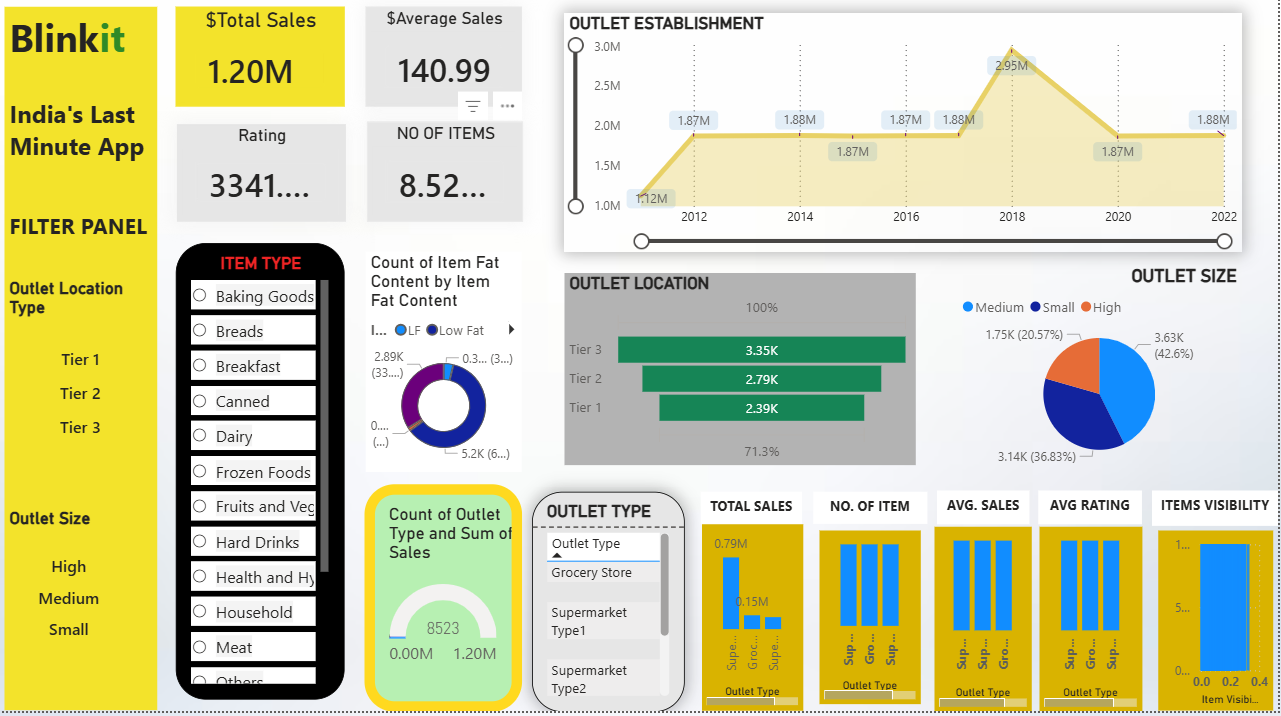

Layout of this report page (visuals, bound fields, positions):
{"tool":"powerbi","page":{"name":"Page 1","canvas":[1280,720],"ordinal":0},"visuals":[{"type":"textbox","box":[12.4,18.7,151.8,700.3],"z":0},{"type":"cardVisual","title":"$Total Sales","fields":{"Data":["Sum(BlinkIT Grocery Data.Sales)"]},"box":[182.9,18.7,167.9,99.5],"z":1000},{"type":"cardVisual","title":"$Average Sales","fields":{"Data":["BlinkIT Grocery Data.Avg_salary"]},"box":[371.9,18.7,155.5,99.5],"z":2000},{"type":"cardVisual","title":"NO OF ITEMS","fields":{"Data":["BlinkIT Grocery Data.no of item","BlinkIT Grocery Data.no of item","BlinkIT Grocery Data.no of item"]},"box":[373.2,133.1,155.5,99.5],"z":3000},{"type":"cardVisual","title":"Rating","fields":{"Data":["Sum(BlinkIT Grocery Data.Rating)"]},"box":[184.1,135.6,167.9,97],"z":4000},{"type":"listSlicer","title":"ITEM TYPE","fields":{"Values":["BlinkIT Grocery Data.Item Type"]},"box":[182.9,253.8,167.9,454],"z":5000},{"type":"donutChart","fields":{"Series":["BlinkIT Grocery Data.Item Fat Content"],"Y":["CountNonNull(BlinkIT Grocery Data.Item Fat Content)"]},"box":[371.9,262.5,155.5,218.9],"z":6000},{"type":"lineChart","title":"OUTLET ESTABLISHMENT","fields":{"Y":["Sum(BlinkIT Grocery Data.Outlet Establishment Year)"],"Category":["BlinkIT Grocery Data.Outlet Establishment Year"]},"box":[569.7,24.9,674.2,237.6],"z":7000},{"type":"pieChart","title":"OUTLET SIZE","fields":{"Category":["BlinkIT Grocery Data.Outlet Size"],"Y":["CountNonNull(BlinkIT Grocery Data.Outlet Size)"]},"box":[960.3,276.2,283.6,205.3],"z":8000},{"type":"funnel","title":"OUTLET LOCATION","fields":{"Category":["BlinkIT Grocery Data.Outlet Location Type"],"Y":["CountNonNull(BlinkIT Grocery Data.Outlet Location Type)"]},"box":[569.7,283.6,349.6,191.6],"z":9000},{"type":"pivotTable","title":"OUTLET TYPE","fields":{"Rows":["BlinkIT Grocery Data.Outlet Type"]},"box":[537.4,501.3,151.8,218.9],"z":10000},{"type":"textbox","box":[705.3,501.3,100.8,32.3],"z":11000},{"type":"textbox","box":[817.3,501.3,113.2,32.3],"z":12000},{"type":"textbox","box":[940.4,500.1,92.1,33.6],"z":13000},{"type":"textbox","box":[1041.2,500.1,103.2,33.6],"z":14000},{"type":"textbox","box":[1154.4,500.1,125.6,34.8],"z":15000},{"type":"columnChart","fields":{"Y":["Sum(BlinkIT Grocery Data.Sales)"],"Category":["BlinkIT Grocery Data.Outlet Type"]},"box":[706.6,533.7,100.8,185.3],"z":16000},{"type":"hundredPercentStackedColumnChart","fields":{"Y":["BlinkIT Grocery Data.no of item"],"Category":["BlinkIT Grocery Data.Outlet Type"]},"box":[823.5,539.9,100.8,172.9],"z":17000},{"type":"hundredPercentStackedColumnChart","fields":{"Y":["BlinkIT Grocery Data.Avg_sales"],"Category":["BlinkIT Grocery Data.Outlet Type"]},"box":[937.9,536.1,97,184.1],"z":18000},{"type":"hundredPercentStackedColumnChart","fields":{"Y":["Sum(BlinkIT Grocery Data.Rating)"],"Category":["BlinkIT Grocery Data.Outlet Type"]},"box":[1042.4,536.1,102,184.1],"z":19000},{"type":"hundredPercentStackedColumnChart","fields":{"Category":["BlinkIT Grocery Data.Item Visibility"],"Y":["CountNonNull(BlinkIT Grocery Data.Outlet Type)"]},"box":[1160.6,539.9,114.4,179.1],"z":20000},{"type":"cardVisual","title":"Outlet Location Type","fields":{"Rows":["BlinkIT Grocery Data.Outlet Location Type"]},"box":[12.4,288.6,151.8,181.6],"z":21000},{"type":"cardVisual","title":"Outlet Size","fields":{"Rows":["BlinkIT Grocery Data.Outlet Size"]},"box":[12.4,517.5,128.1,153],"z":22000},{"type":"gauge","fields":{"Y":["CountNonNull(BlinkIT Grocery Data.Outlet Type)"],"MaxValue":["Sum(BlinkIT Grocery Data.Sales)"]},"box":[370.7,493.9,156.7,226.4],"z":23000},{"type":"textbox","box":[102,18.7,47.3,63.4],"z":24000}]}

Visuals, with their boxes in screenshot pixels (x1, y1, x2, y2), scaled from the page's 1280x720 canvas onto the 1281x716 screenshot:
textbox: bbox(12, 19, 164, 715)
"$Total Sales" cardVisual: bbox(183, 19, 351, 118)
"$Average Sales" cardVisual: bbox(372, 19, 528, 118)
"NO OF ITEMS" cardVisual: bbox(373, 132, 529, 231)
"Rating" cardVisual: bbox(184, 135, 352, 231)
"ITEM TYPE" listSlicer: bbox(183, 252, 351, 704)
donutChart - BlinkIT Grocery Data.Item Fat Content x CountNonNull(BlinkIT Grocery Data.Item Fat Content): bbox(372, 261, 528, 479)
"OUTLET ESTABLISHMENT" lineChart: bbox(570, 25, 1245, 261)
"OUTLET SIZE" pieChart: bbox(961, 275, 1245, 479)
"OUTLET LOCATION" funnel: bbox(570, 282, 920, 473)
"OUTLET TYPE" pivotTable: bbox(538, 499, 690, 715)
textbox: bbox(706, 499, 807, 531)
textbox: bbox(818, 499, 931, 531)
textbox: bbox(941, 497, 1033, 531)
textbox: bbox(1042, 497, 1145, 531)
textbox: bbox(1155, 497, 1280, 532)
columnChart - Sum(BlinkIT Grocery Data.Sales) x BlinkIT Grocery Data.Outlet Type: bbox(707, 531, 808, 715)
hundredPercentStackedColumnChart - BlinkIT Grocery Data.no of item x BlinkIT Grocery Data.Outlet Type: bbox(824, 537, 925, 709)
hundredPercentStackedColumnChart - BlinkIT Grocery Data.Avg_sales x BlinkIT Grocery Data.Outlet Type: bbox(939, 533, 1036, 715)
hundredPercentStackedColumnChart - Sum(BlinkIT Grocery Data.Rating) x BlinkIT Grocery Data.Outlet Type: bbox(1043, 533, 1145, 715)
hundredPercentStackedColumnChart - BlinkIT Grocery Data.Item Visibility x CountNonNull(BlinkIT Grocery Data.Outlet Type): bbox(1162, 537, 1276, 715)
"Outlet Location Type" cardVisual: bbox(12, 287, 164, 468)
"Outlet Size" cardVisual: bbox(12, 515, 141, 667)
gauge - CountNonNull(BlinkIT Grocery Data.Outlet Type) x Sum(BlinkIT Grocery Data.Sales): bbox(371, 491, 528, 715)
textbox: bbox(102, 19, 149, 82)
